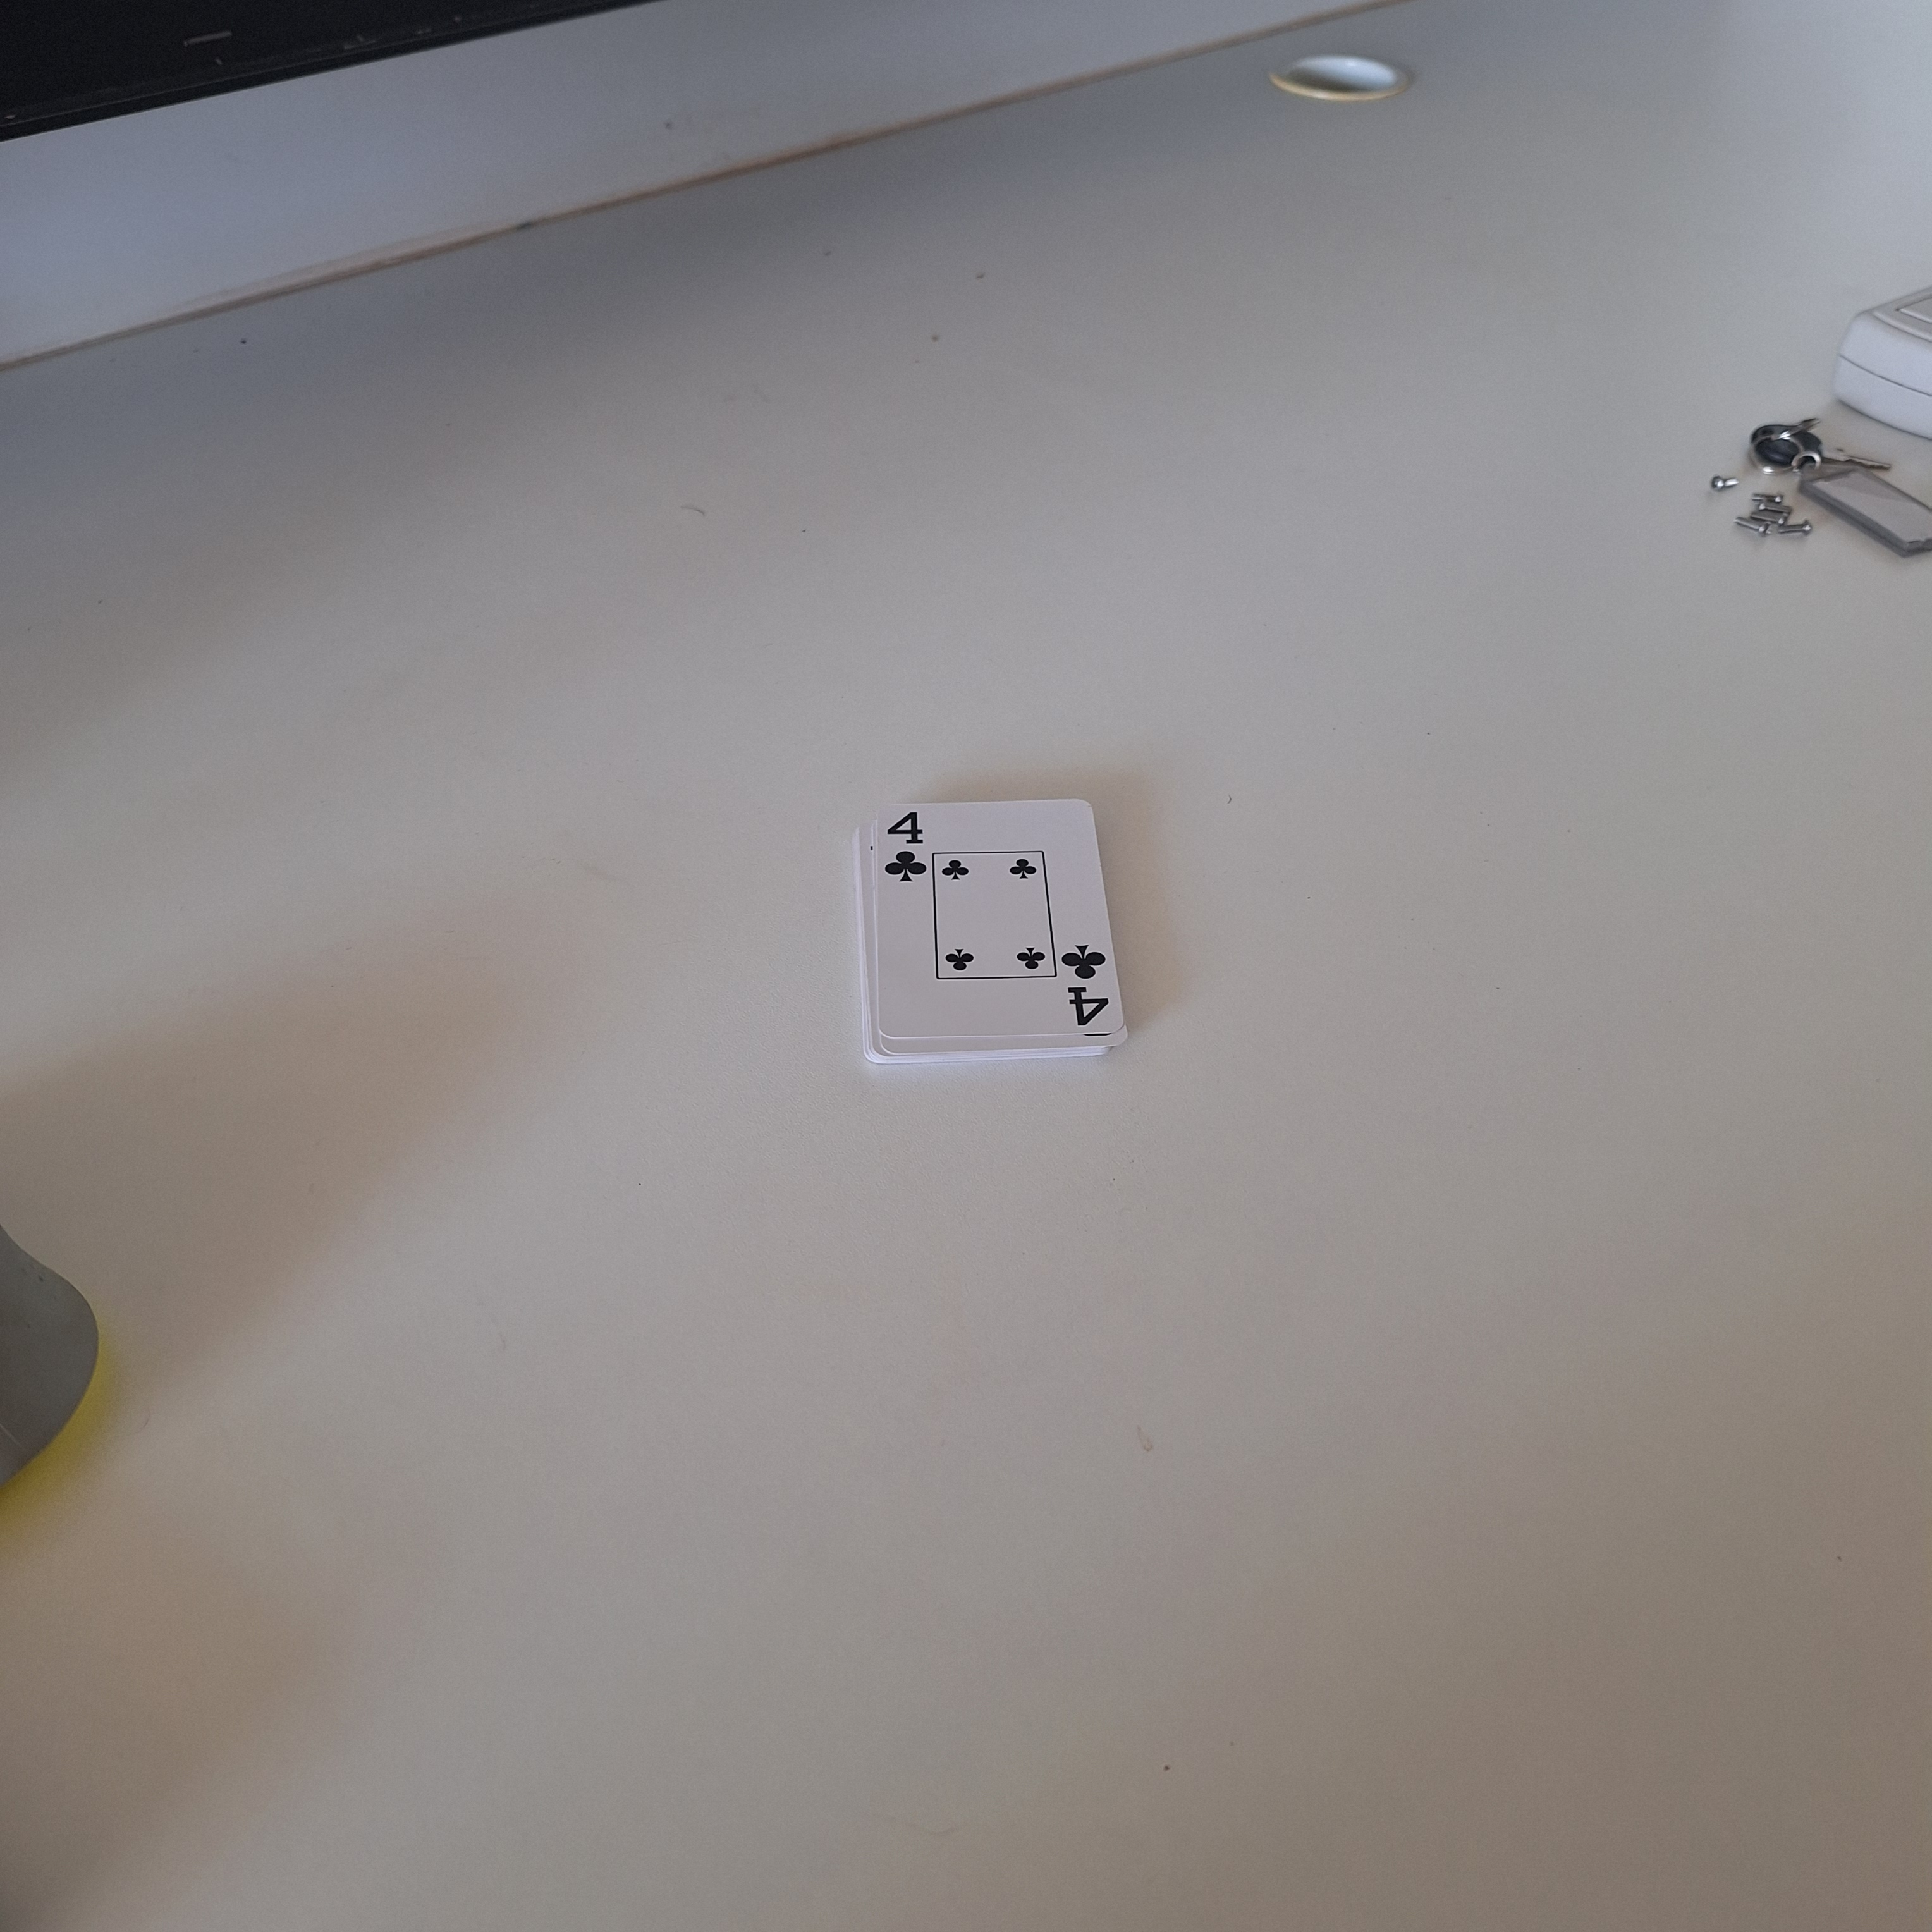4P: (1056, 934, 1116, 1044), (876, 807, 931, 888)
